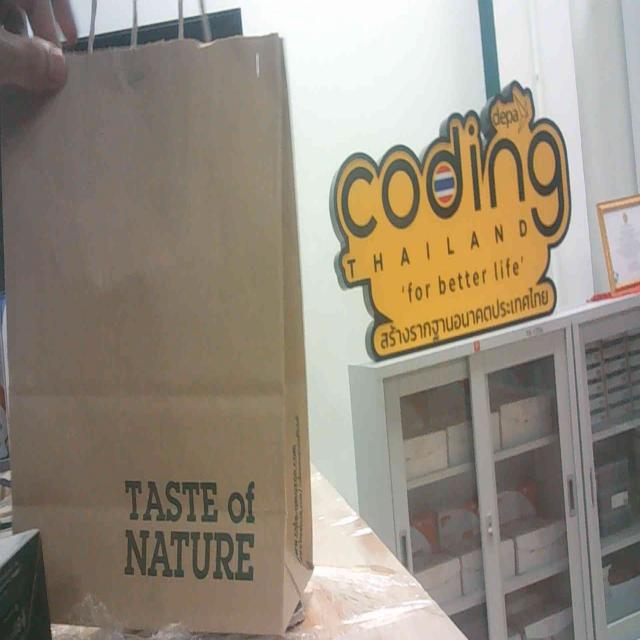bag: (5, 32, 328, 640)
